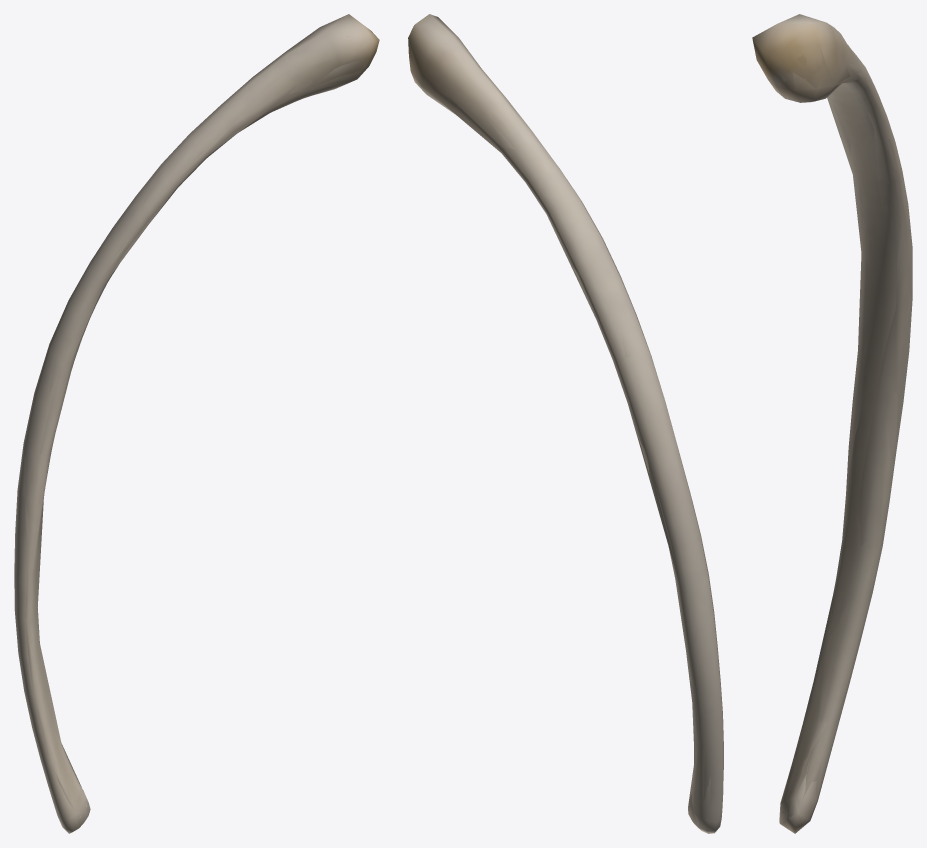
File: Rib R14.fbx
The picture shows the model from 3 angles, left to right: view 1: azimuth 30°, elevation 25°; view 2: azimuth 150°, elevation 25°; view 3: azimuth 270°, elevation 25°; orthographic projection. The views are drawn at different scales.
Visible parts, largest first — view 1: Rib R14, Rib R14 low, Rib R14 high; view 2: Rib R14, Rib R14 low, Rib R14 high; view 3: Rib R14 low, Rib R14, Rib R14 high.
Boxes of the visible parts, box(x1,y1,x2,y2) form: Rib R14: box(14, 14, 379, 833); Rib R14 low: box(15, 15, 375, 829); Rib R14 high: box(15, 36, 349, 818); Rib R14: box(408, 14, 723, 833); Rib R14 low: box(408, 14, 717, 833); Rib R14 high: box(434, 51, 721, 824); Rib R14 low: box(753, 17, 912, 824); Rib R14: box(752, 14, 912, 833); Rib R14 high: box(781, 44, 908, 828).
Size of the model in its own units: 6.79 by 14.72 by 2.15.
1 material, 1 textured.
